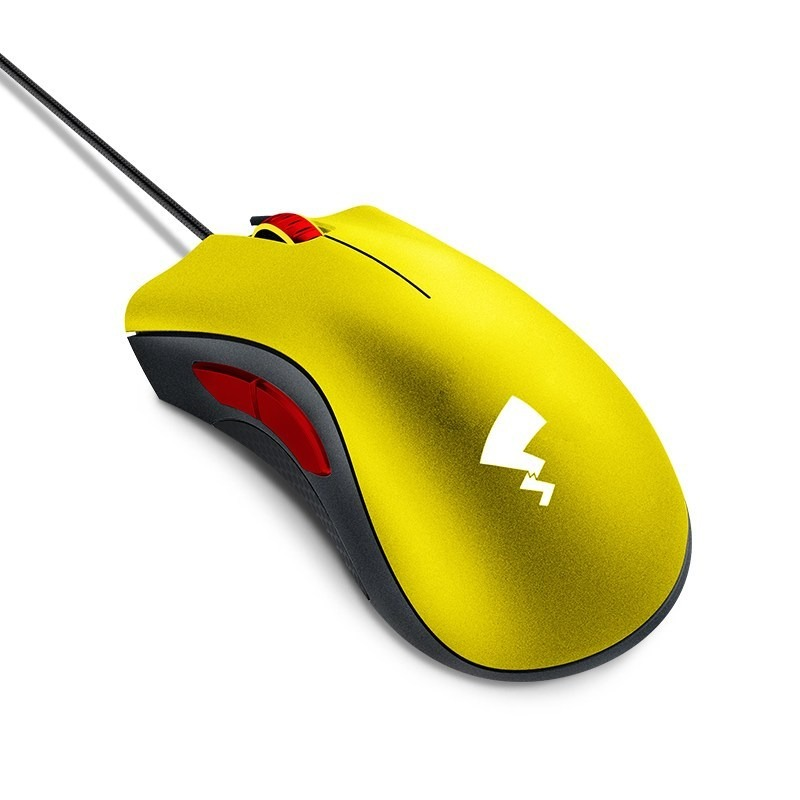mouse: (116, 200, 696, 689)
